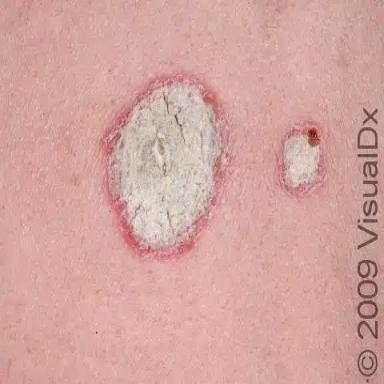Psoriasis: (106, 74, 229, 258), (280, 125, 325, 196)
